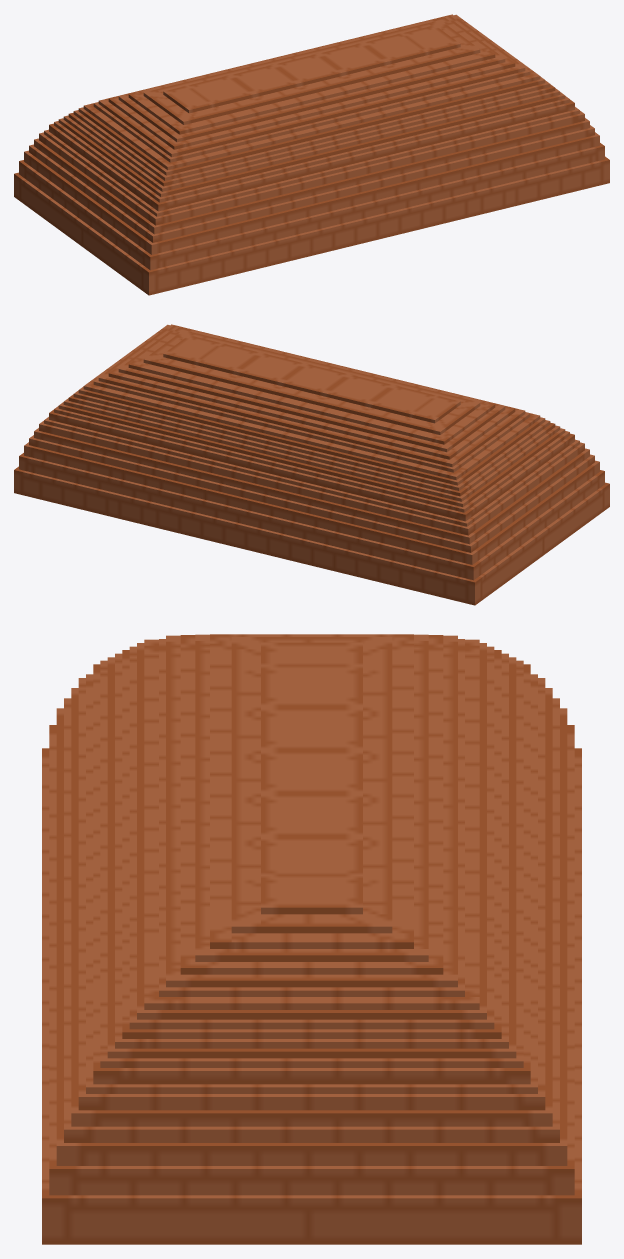
Rendered from roof_textured_orange_oval_rectangular.obj.
3 renders of one model, top to bottom at view 1: azimuth 30°, elevation 25°; view 2: azimuth 150°, elevation 25°; view 3: azimuth 270°, elevation 25°, orthographic. The views are drawn at different scales.
Visible parts, largest first — view 1: GameObject_roof_textured_orange_oval_rectangular.002; view 2: GameObject_roof_textured_orange_oval_rectangular.002; view 3: GameObject_roof_textured_orange_oval_rectangular.002.
Boxes of the visible parts, x1,y1,x2,y2 form: GameObject_roof_textured_orange_oval_rectangular.002: [14, 14, 609, 295]; GameObject_roof_textured_orange_oval_rectangular.002: [14, 324, 609, 605]; GameObject_roof_textured_orange_oval_rectangular.002: [42, 634, 581, 1244].
Size of the model in its own units: 14.6 by 3.7 by 7.4.
